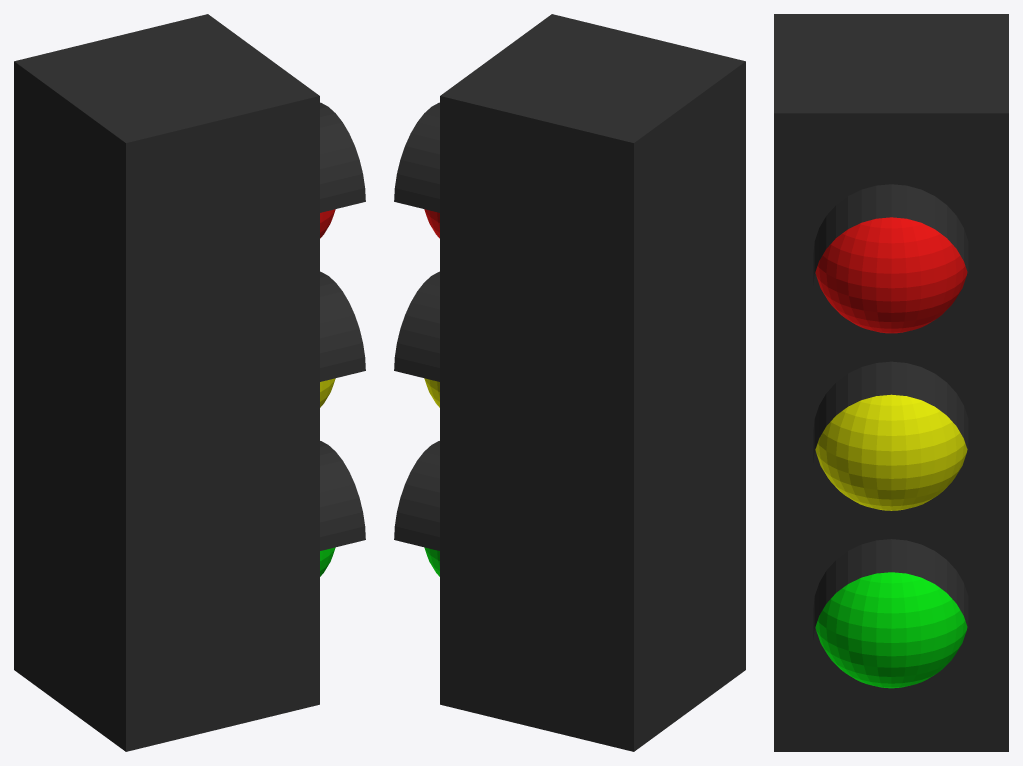
Rendered from traffic_light.fbx.
3 views of the same model, side by side, from view 1: azimuth 30°, elevation 25°; view 2: azimuth 150°, elevation 25°; view 3: azimuth 270°, elevation 25° (orthographic). The views are drawn at different scales.
Parts seen in each view (by area): view 1: Body, YellowCover, RedCover, GreenCover; view 2: Body, YellowCover, RedCover, GreenCover; view 3: Body, RedLight, GreenLight, YellowLight, RedCover, YellowCover, GreenCover.
Part boxes in pixels (<box>): Body: <box>14,14,319,751</box>; YellowCover: <box>320,271,365,381</box>; RedCover: <box>320,102,365,212</box>; GreenCover: <box>320,441,365,550</box>; Body: <box>440,14,745,751</box>; YellowCover: <box>394,271,439,381</box>; RedCover: <box>394,102,439,212</box>; GreenCover: <box>394,441,439,550</box>; Body: <box>774,14,1008,751</box>; RedLight: <box>815,217,967,333</box>; GreenLight: <box>815,572,967,688</box>; YellowLight: <box>815,394,967,510</box>; RedCover: <box>813,184,969,285</box>; YellowCover: <box>813,361,969,462</box>; GreenCover: <box>813,539,969,639</box>.
Bounding box in the file's own units: 40 × 90 × 30.
